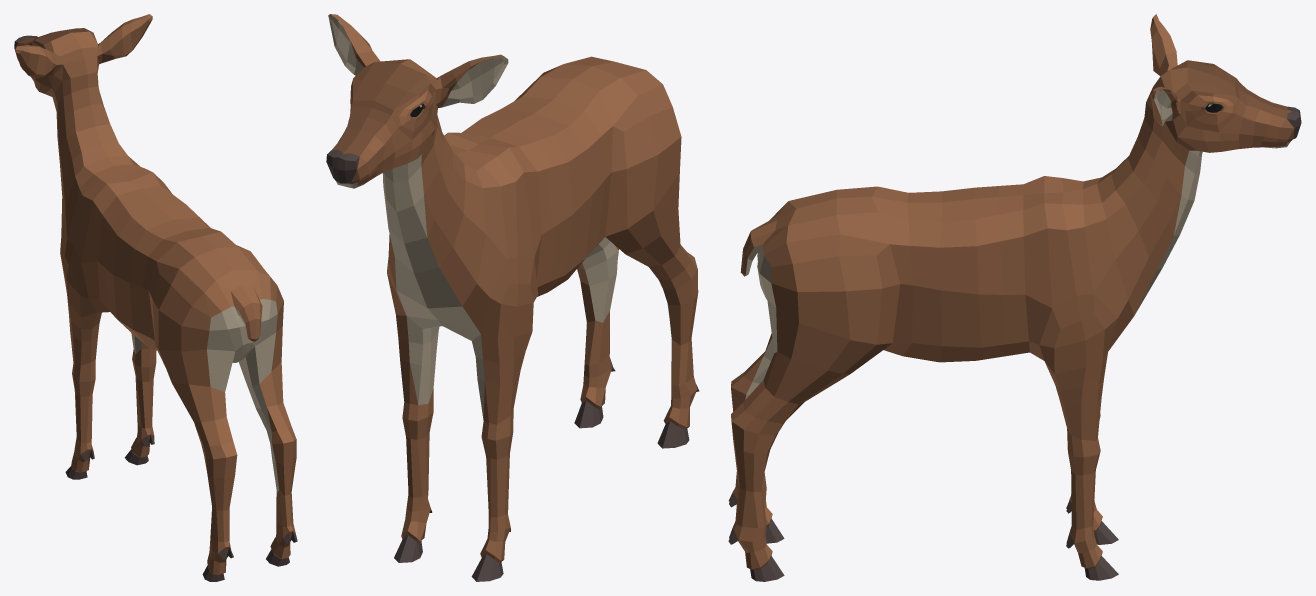
File: deer.glb
3 renders of one model, left to right at view 1: azimuth 30°, elevation 25°; view 2: azimuth 150°, elevation 25°; view 3: azimuth 270°, elevation 25°, orthographic. The views are drawn at different scales.
Parts seen in each view (by area): view 1: Deer; view 2: Deer; view 3: Deer.
Part boxes in pixels (x1=…): Deer: x1=14, y1=14, x2=297, y2=581; Deer: x1=326, y1=14, x2=699, y2=581; Deer: x1=728, y1=14, x2=1301, y2=581.
Size of the model in its own units: 0.7608 by 2.23 by 2.29.
